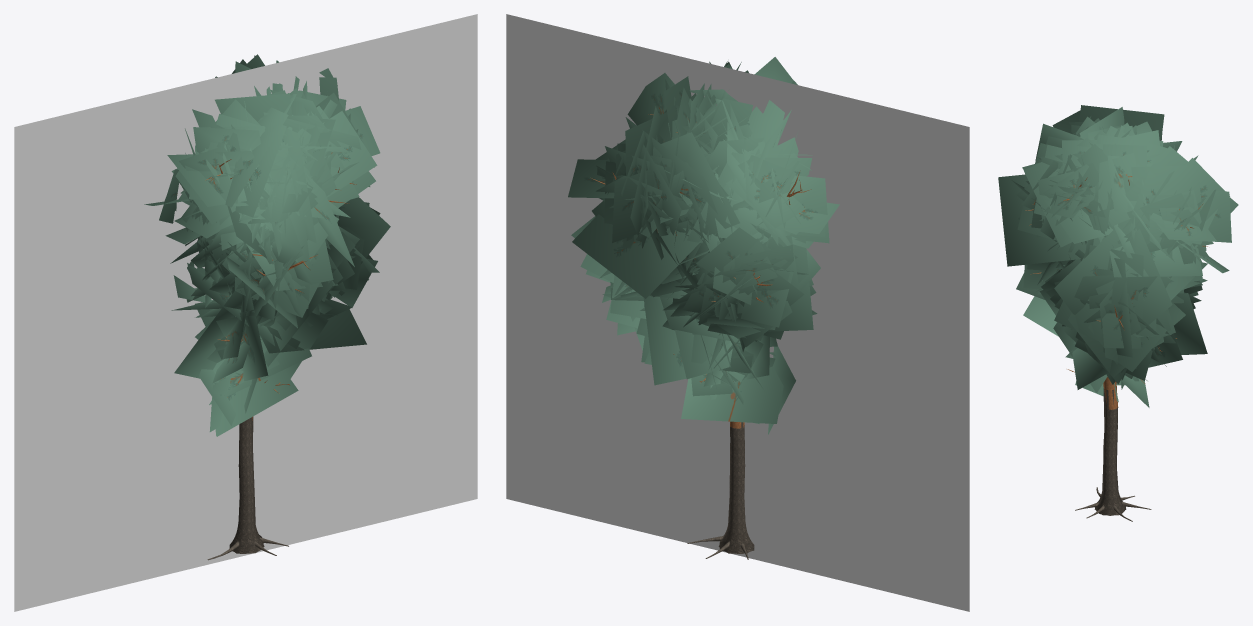
File: pin_vieux_a.fbx
3 renders of one model, left to right at view 1: azimuth 30°, elevation 25°; view 2: azimuth 150°, elevation 25°; view 3: azimuth 270°, elevation 25°, orthographic. The views are drawn at different scales.
Visible parts, largest first — view 1: pin_vieux_a_LOD3, pin_vieux_a_LOD2, pin_vieux_a_LOD1; view 2: pin_vieux_a_LOD3, pin_vieux_a_LOD1, pin_vieux_a_LOD2; view 3: pin_vieux_a_LOD2, pin_vieux_a_LOD1.
Part boxes in pixels (left/top/right/bottom): pin_vieux_a_LOD3: left=14, top=14, right=477, bottom=611; pin_vieux_a_LOD2: left=167, top=54, right=390, bottom=559; pin_vieux_a_LOD1: left=144, top=59, right=380, bottom=560; pin_vieux_a_LOD3: left=506, top=14, right=969, bottom=611; pin_vieux_a_LOD1: left=568, top=61, right=839, bottom=559; pin_vieux_a_LOD2: left=571, top=57, right=820, bottom=558; pin_vieux_a_LOD2: left=998, top=105, right=1238, bottom=520; pin_vieux_a_LOD1: left=1011, top=110, right=1231, bottom=521.
Size of what is drawn, in the model's own units: 30.18 by 30.18 by 16.14.
